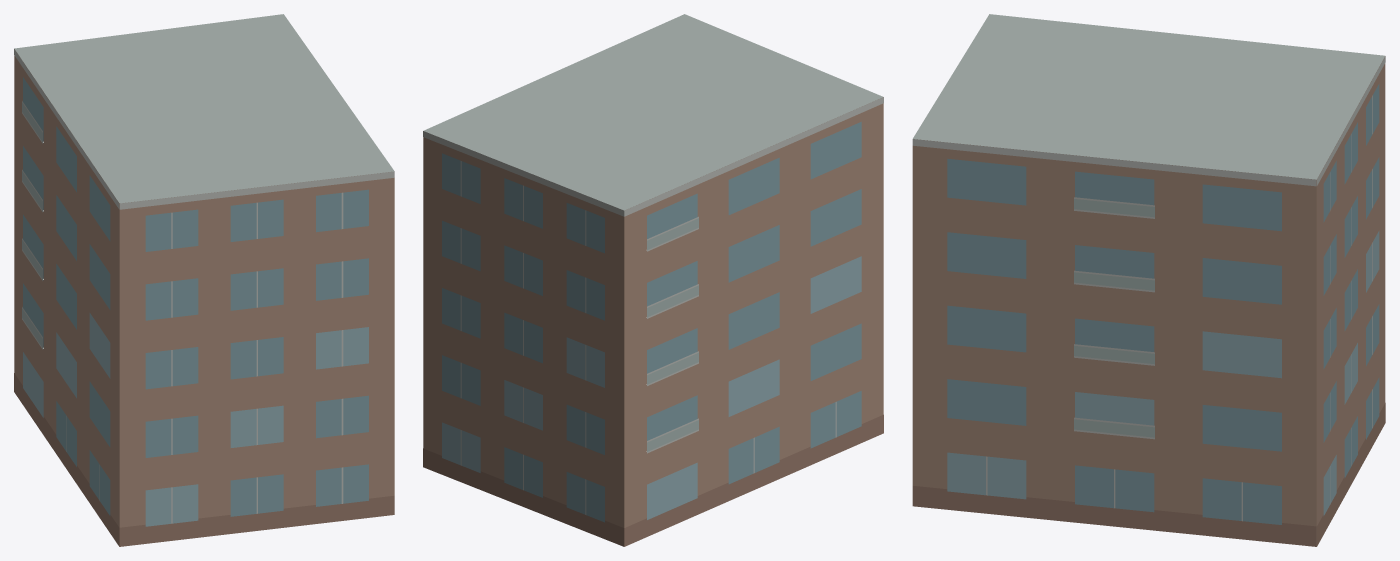
File: survey-upis-33011373.glb
3 renders of one model, left to right at view 1: azimuth 30°, elevation 25°; view 2: azimuth 150°, elevation 25°; view 3: azimuth 270°, elevation 25°, orthographic. The views are drawn at different scales.
Parts seen in each view (by area): view 1: survey-upis-33011373.tmp; view 2: survey-upis-33011373.tmp; view 3: survey-upis-33011373.tmp.
Part boxes in pixels (x1,y1,x2,y2): survey-upis-33011373.tmp: (14, 14, 394, 546); survey-upis-33011373.tmp: (423, 14, 883, 546); survey-upis-33011373.tmp: (912, 14, 1385, 546).
Bounding box in the file's own units: 12.77 × 13.2 × 15.41.
